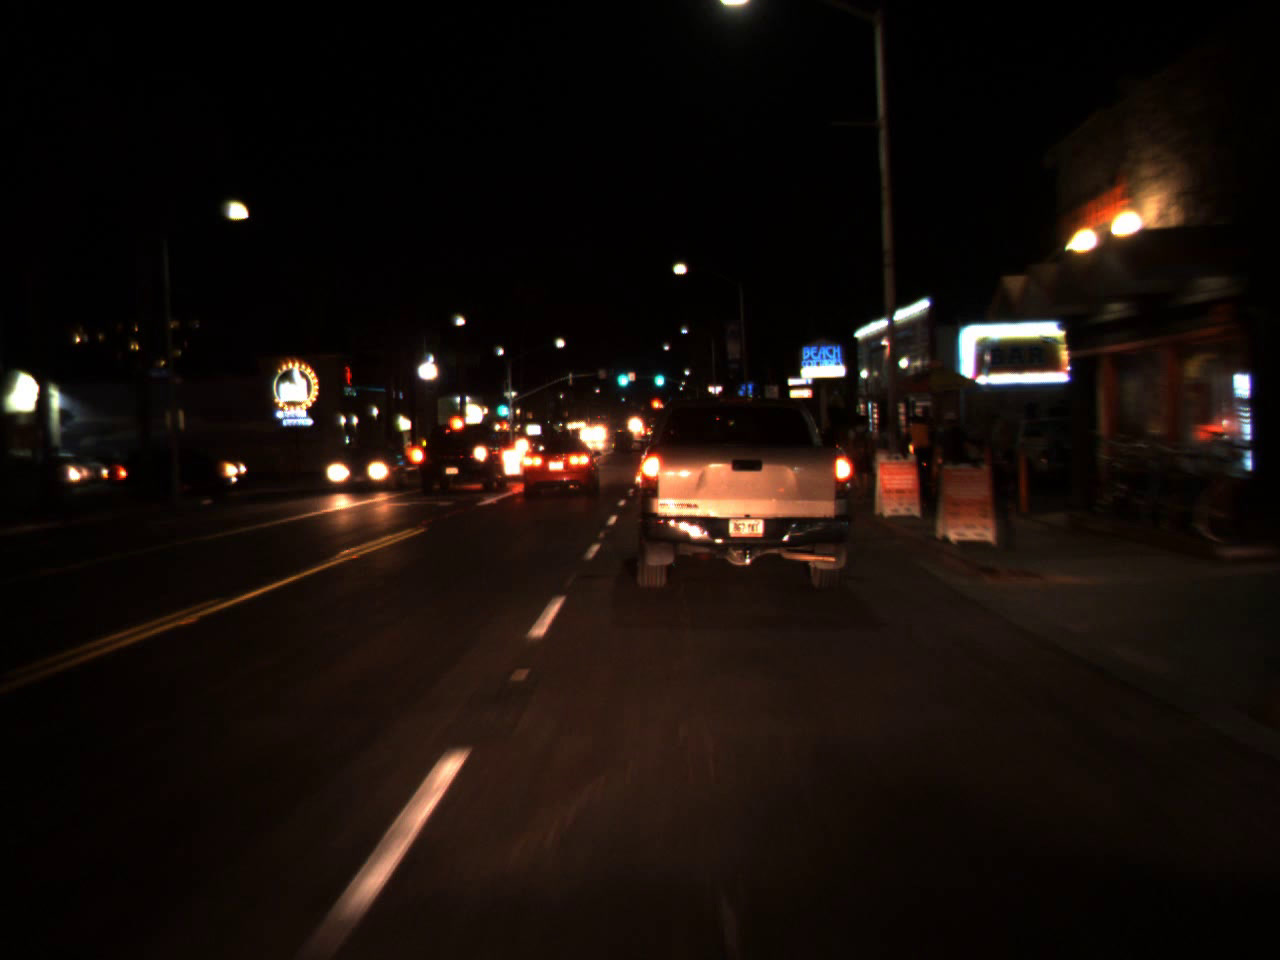go: (612, 358, 631, 391), (493, 391, 511, 421), (650, 361, 666, 391)
